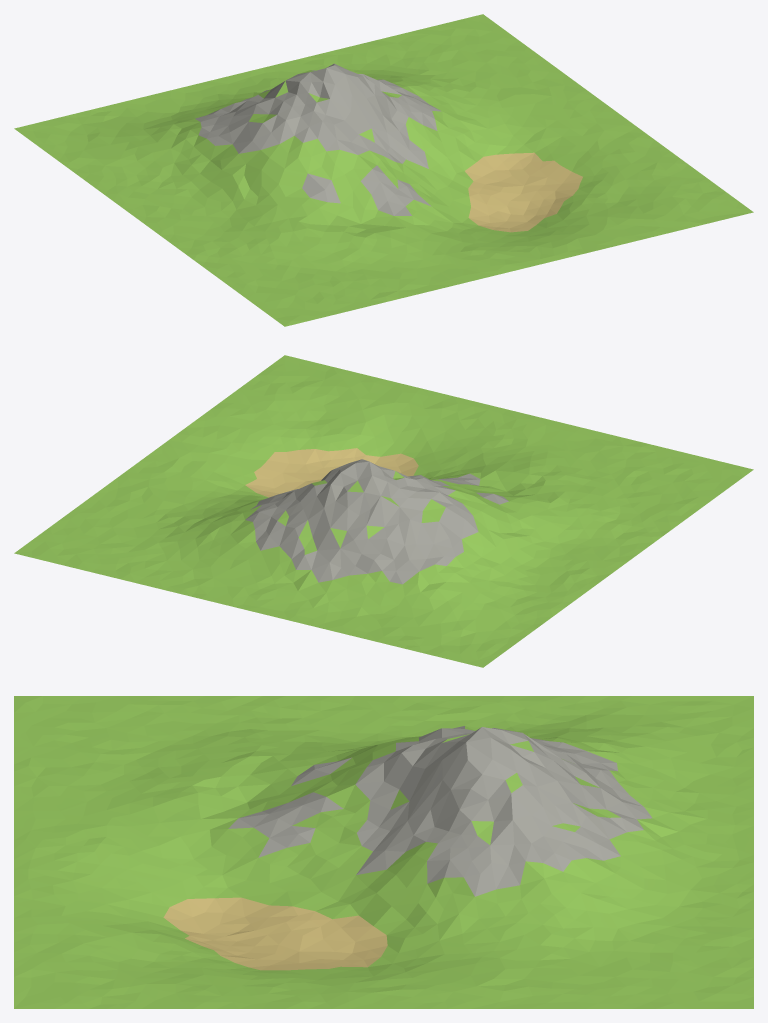
Rendered from terrain_l_d_18.glb.
The picture shows the model from 3 angles, top to bottom: view 1: azimuth 30°, elevation 25°; view 2: azimuth 150°, elevation 25°; view 3: azimuth 270°, elevation 25°; orthographic projection. The views are drawn at different scales.
Parts seen in each view (by area): view 1: CPT_Terrain_L_d_18; view 2: CPT_Terrain_L_d_18; view 3: CPT_Terrain_L_d_18.
Part boxes in pixels (bbox=[...]): CPT_Terrain_L_d_18: bbox=[14, 14, 753, 326]; CPT_Terrain_L_d_18: bbox=[14, 355, 753, 667]; CPT_Terrain_L_d_18: bbox=[14, 696, 753, 1008].
Size of the model in its own units: 100 by 21.18 by 100.
1 material, 1 textured.
